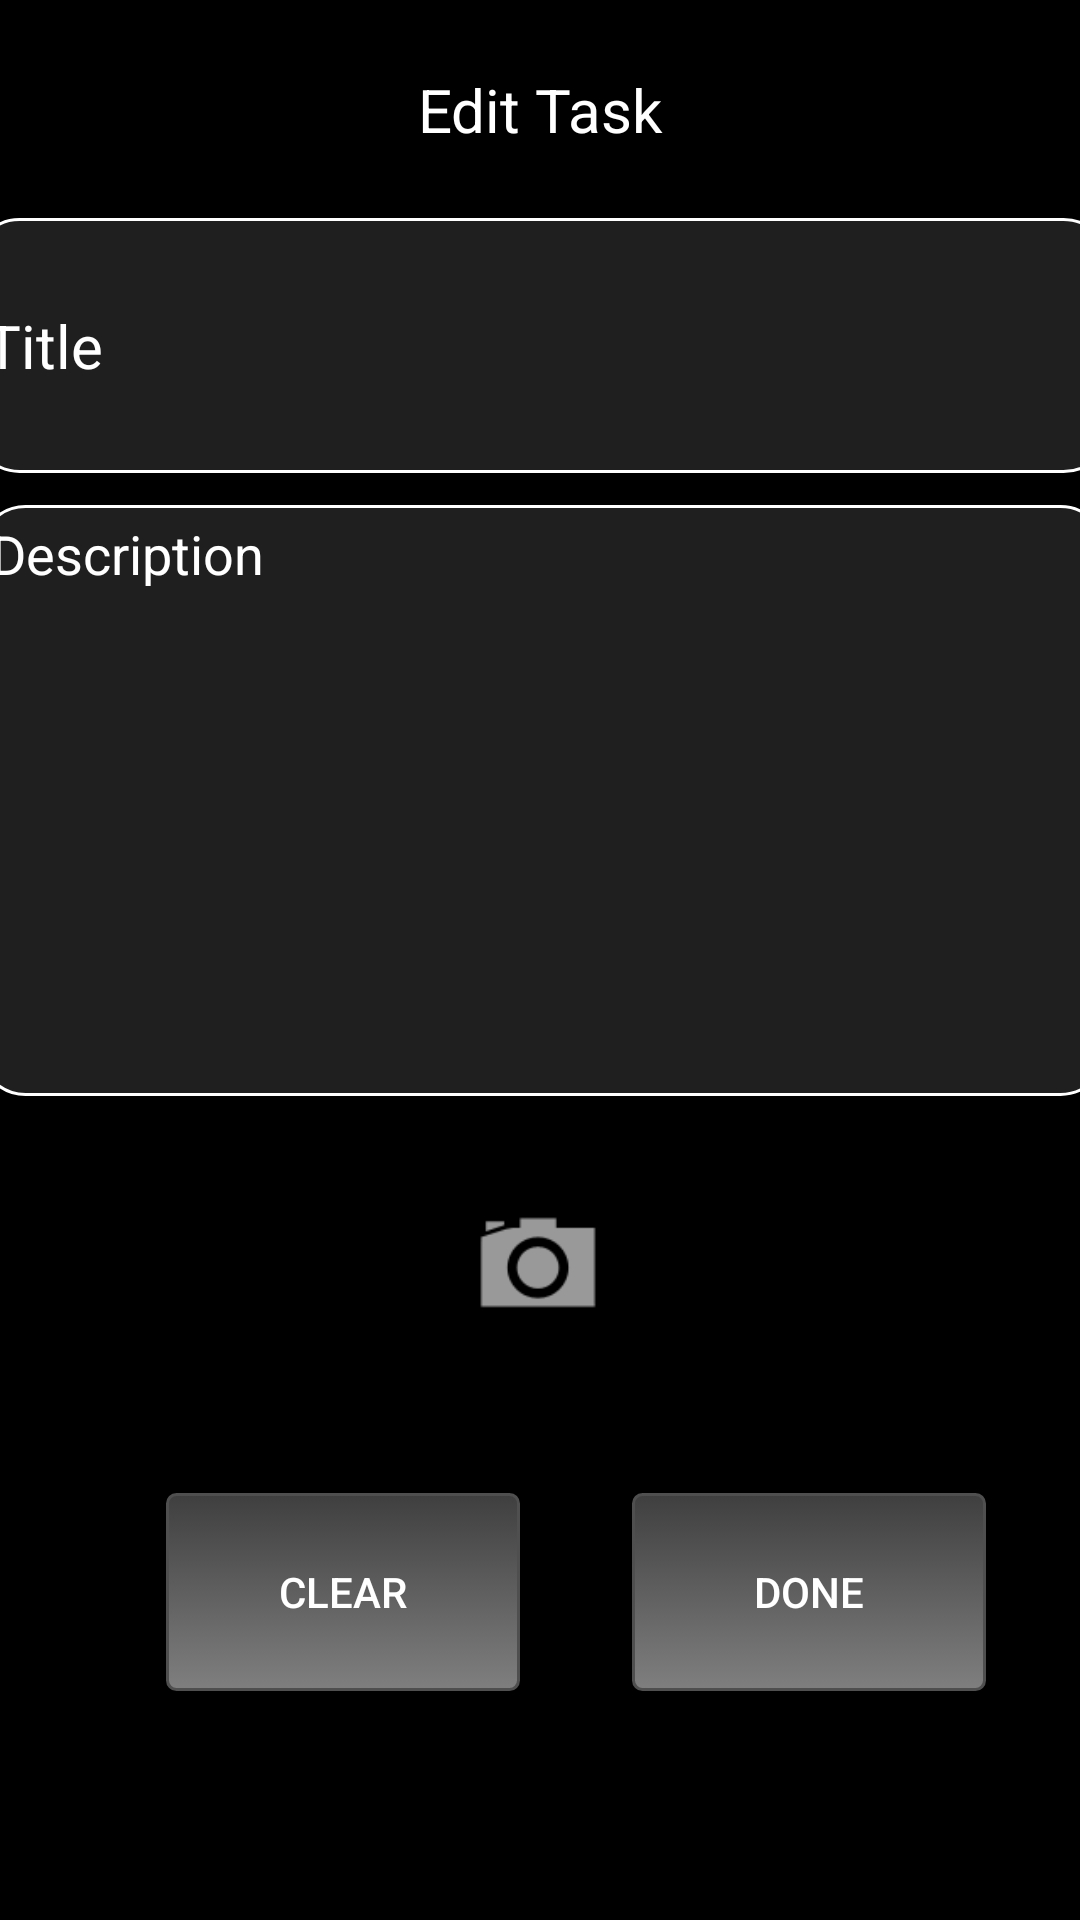

Where to tap for icons on this 1080w x 1920h app screen, as [x,y]:
camera: [538,1262]
